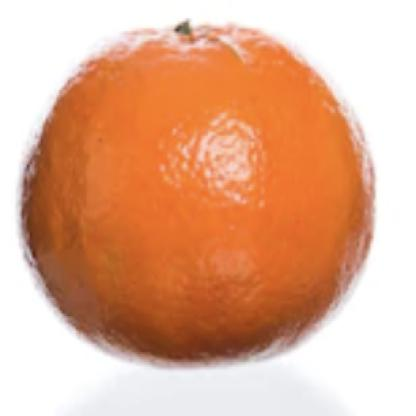fresh: (23, 21, 376, 370)
